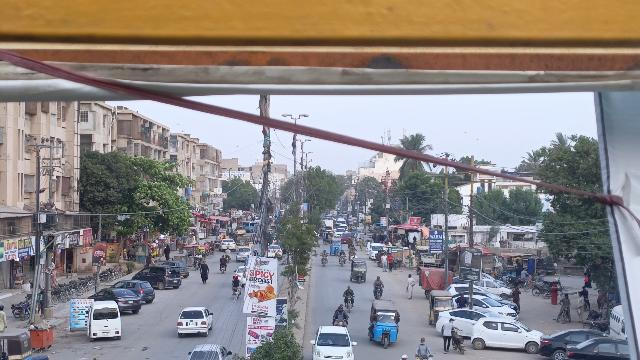Bike: (452, 327, 467, 357), (343, 294, 357, 314), (558, 303, 570, 325), (331, 318, 352, 329), (373, 285, 384, 301), (338, 256, 348, 270), (320, 254, 329, 268), (232, 286, 240, 301), (219, 263, 227, 277)
Car: (471, 313, 543, 354), (539, 326, 597, 358), (455, 291, 519, 319), (309, 325, 360, 360), (565, 337, 631, 360), (88, 286, 142, 314), (131, 264, 183, 291), (435, 305, 482, 334), (173, 305, 214, 338), (110, 276, 155, 305), (187, 341, 233, 360)
Person: (439, 316, 454, 355), (196, 259, 211, 287), (575, 291, 588, 322), (404, 271, 417, 300), (415, 334, 431, 356), (511, 285, 523, 310), (332, 304, 349, 321), (559, 291, 571, 310), (0, 303, 7, 333), (372, 274, 385, 290), (230, 274, 242, 290), (343, 283, 355, 299), (320, 248, 329, 260), (219, 254, 227, 266), (338, 249, 347, 259)
Rickshaw: (365, 298, 405, 349), (427, 289, 454, 324), (349, 257, 370, 285)
Van: (85, 301, 125, 341)
